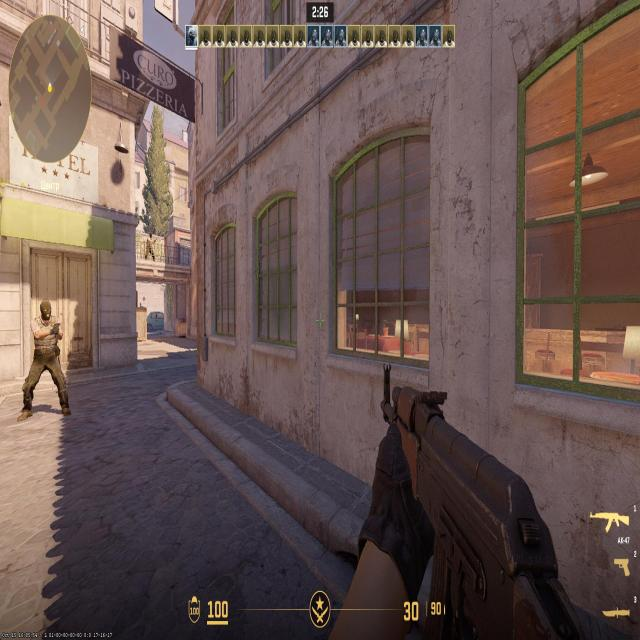T: (34, 299, 61, 405), (148, 232, 153, 261)
T_heat: (41, 302, 49, 319), (149, 234, 152, 238)
